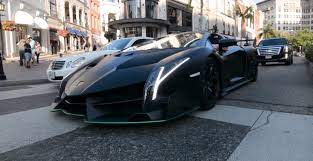Lamborghini: (87, 30, 256, 117)
